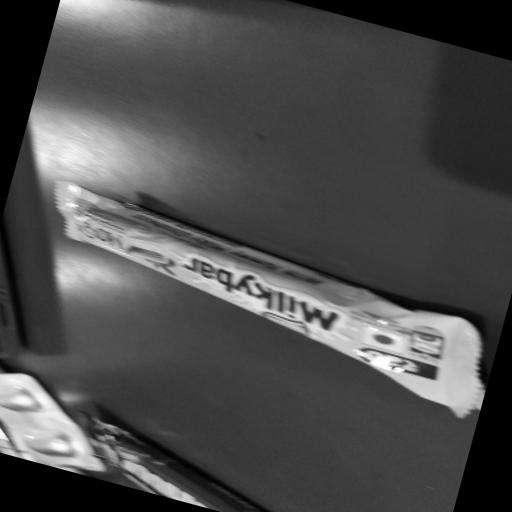chocolate: (69, 196, 461, 366)
milky-bar: (172, 268, 350, 332)
